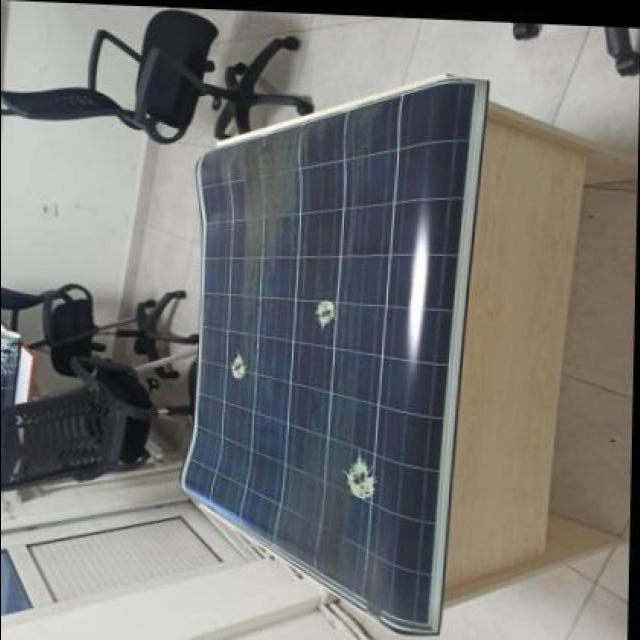soiled: (189, 70, 492, 637)
